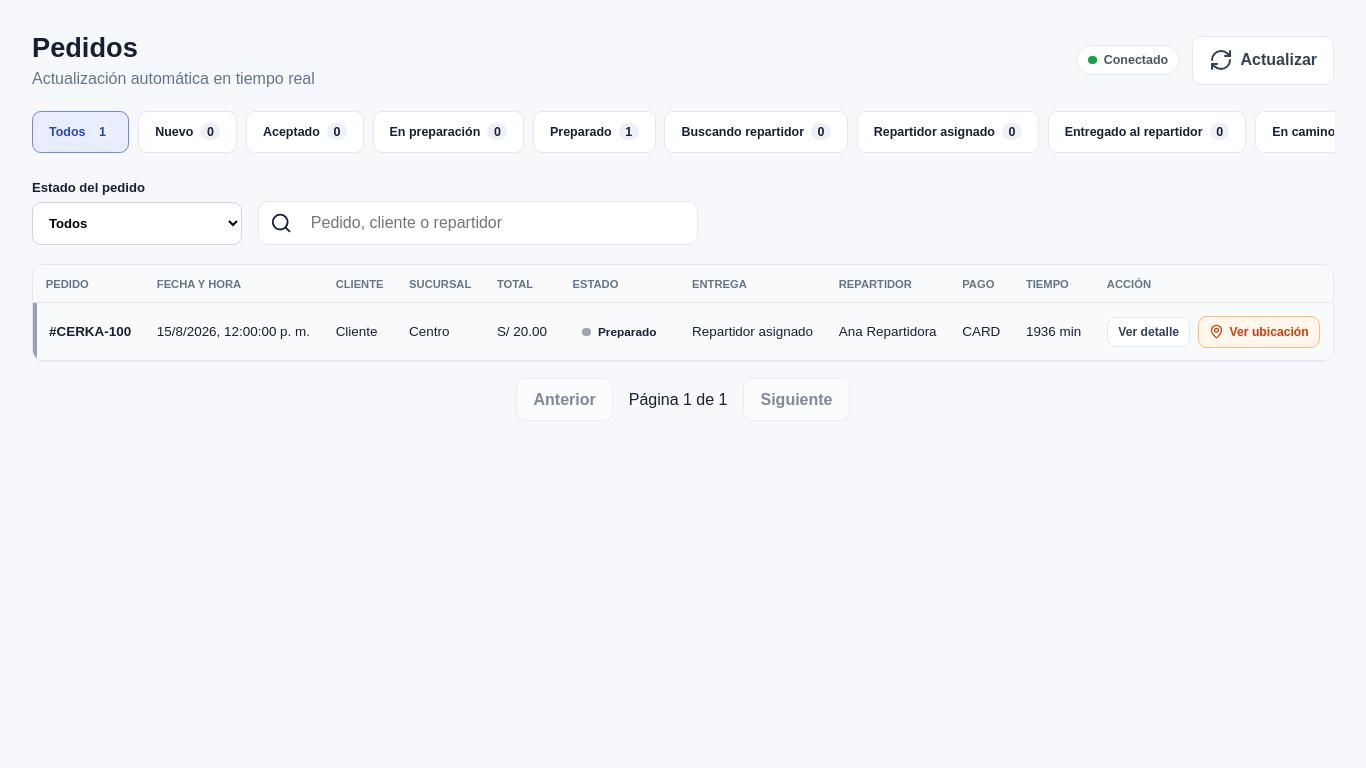
Scenario: detalle de asignación del pedido › actualiza el mensaje abierto cuando la asignación cambia a REJECTED
The width and height of the screenshot is (1366, 768).
Click the button "Ver detalle": (1149, 332) [1107,317,1190,347]
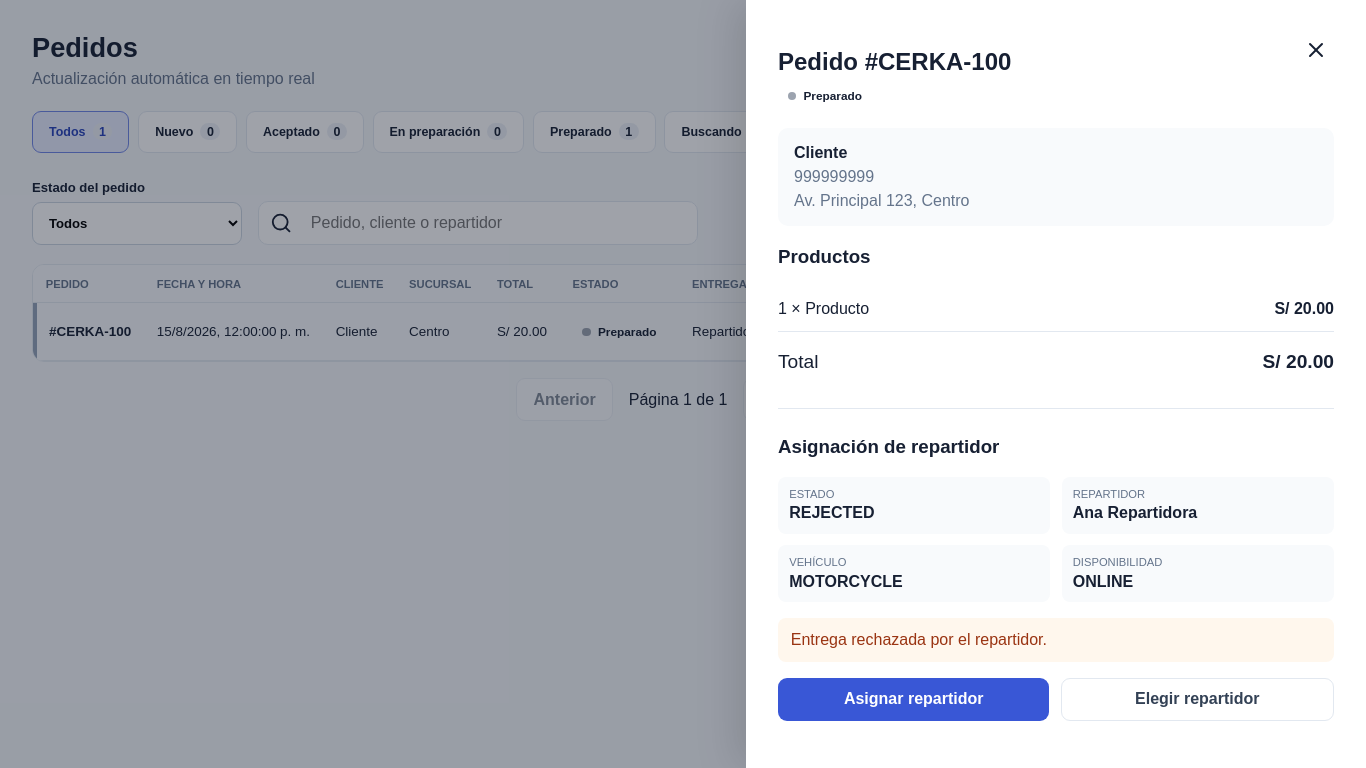
Expected: the text "Entrega rechazada por el repartidor." is shown, [778,618,1334,662]
Expected: the text "REJECTED" is shown, [789,504,875,522]
